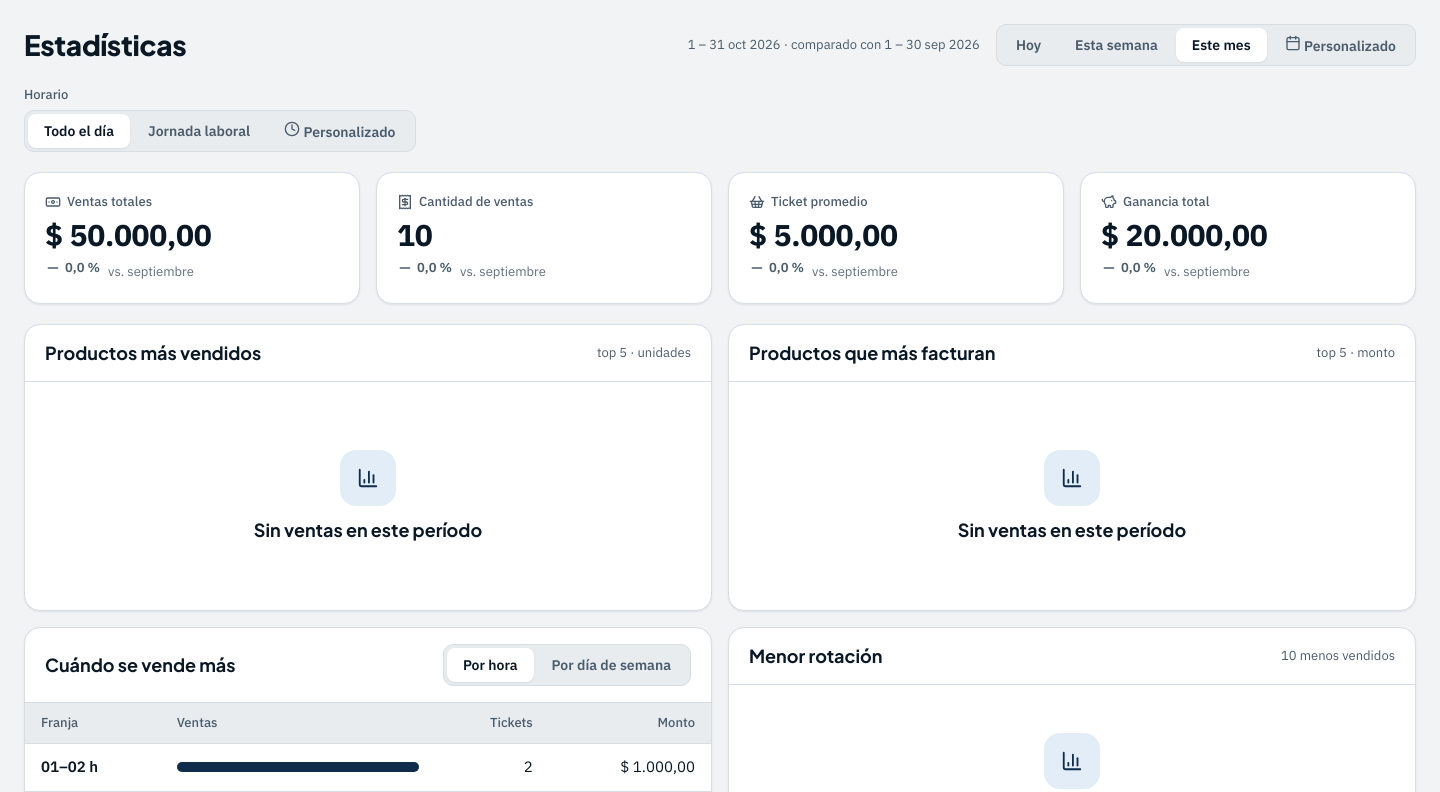
Test: Stats — filtro horario: día comercial en curso › 12. "Últimos 7 días" sin franja
The width and height of the screenshot is (1440, 792).
Click the tab "Personalizado" in the row of "1 – 30 sep 2026": (1340, 45) [1269,28,1412,62]
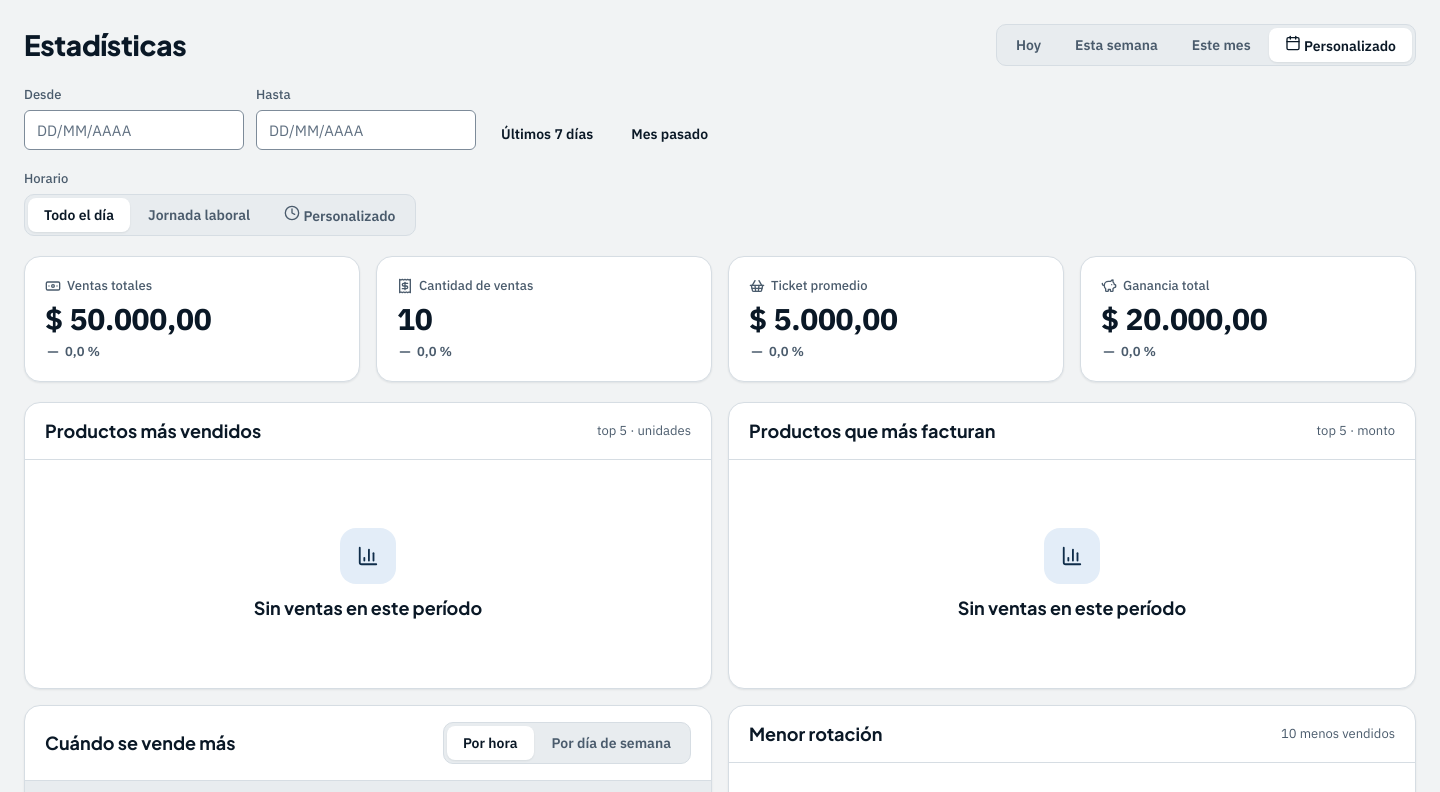
Click the button "Últimos 7 días": (547, 134) [488,118,606,150]
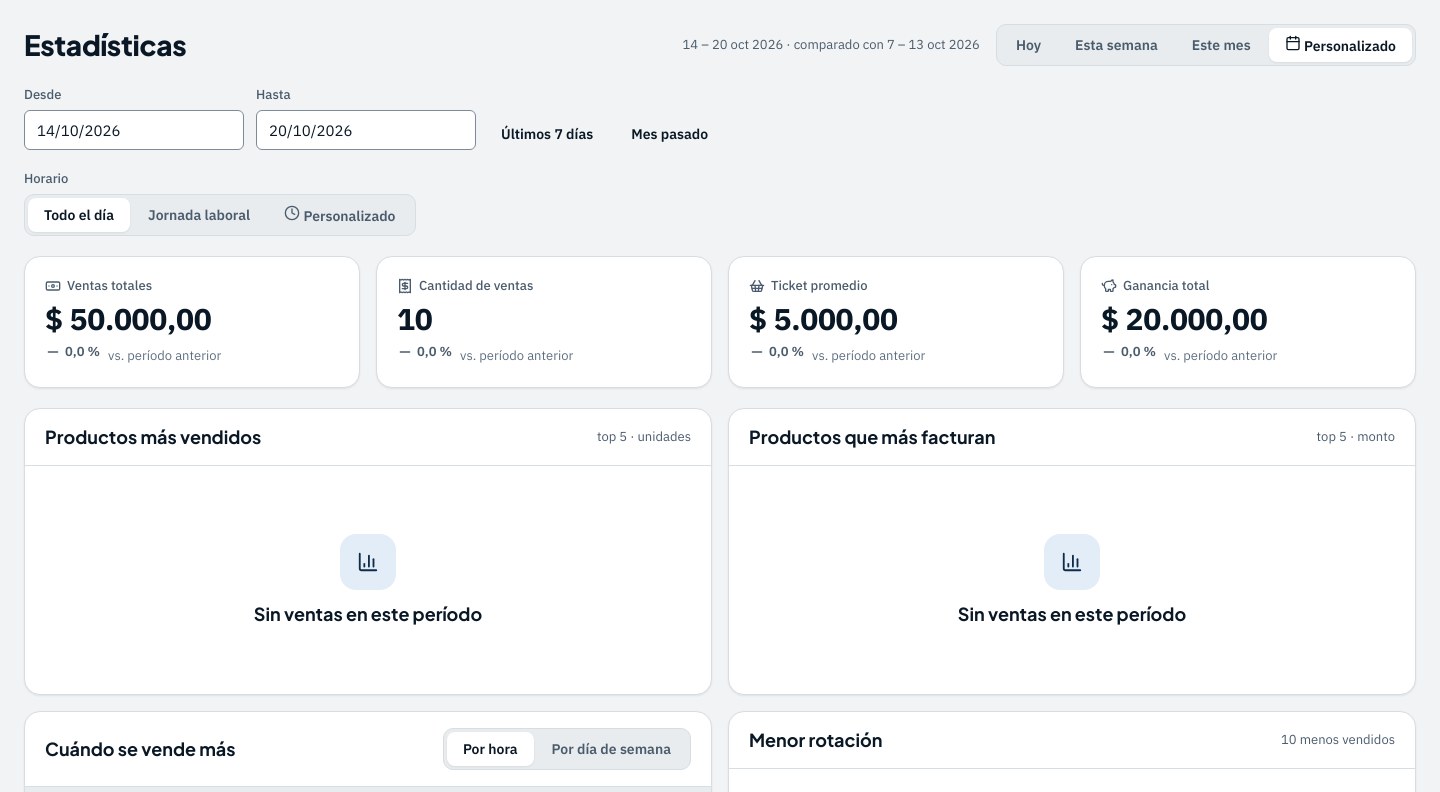
Result: the field labelled "Desde" holds "14/10/2026" at [24,110,244,150]
Result: the field labelled "Hasta" holds "20/10/2026" at [256,110,476,150]
